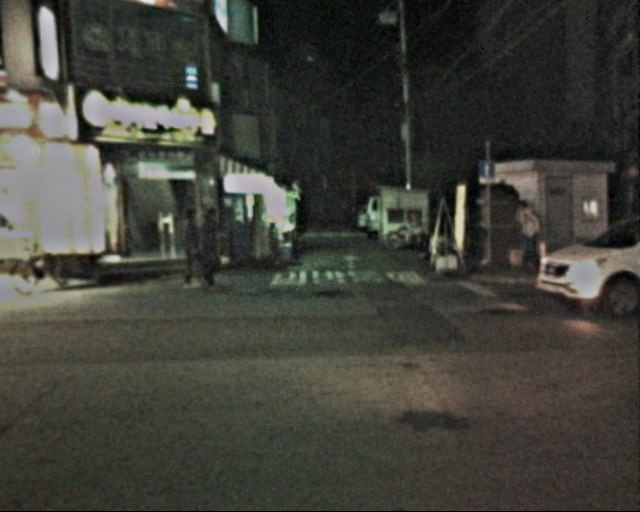person: (169, 206, 212, 290), (508, 199, 542, 282), (191, 205, 226, 285), (336, 201, 360, 233)
